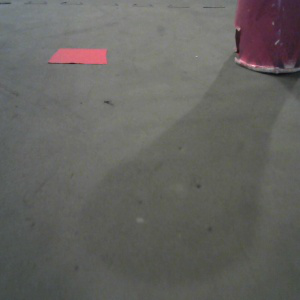right: (233, 1, 300, 78)
